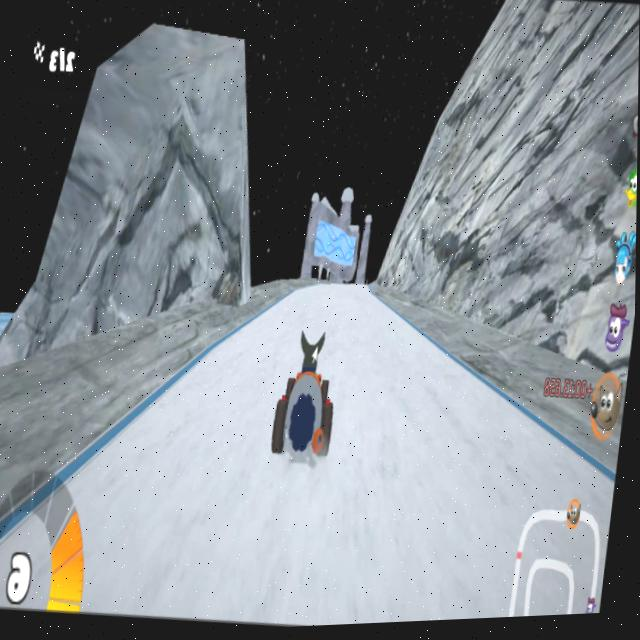player_kart: (259, 329, 348, 476)
track: (319, 321, 412, 618), (289, 284, 368, 330)
